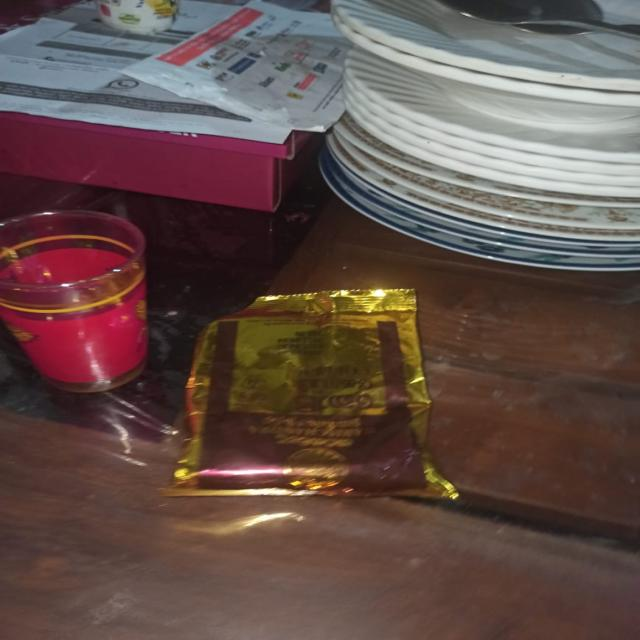Harischandra Coffee: (197, 302, 466, 532)
